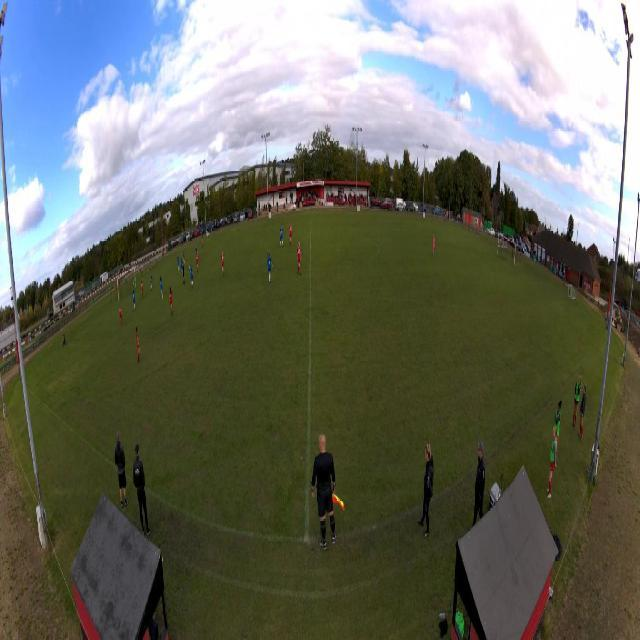ball: (189, 265, 190, 269)
player: (267, 249, 274, 285), (135, 325, 141, 363), (296, 241, 302, 278), (288, 221, 293, 250), (220, 250, 225, 279), (169, 286, 173, 318), (280, 223, 284, 249), (190, 263, 194, 289), (159, 275, 163, 301), (182, 262, 186, 287), (119, 304, 123, 328), (132, 289, 136, 311), (140, 280, 144, 300), (177, 253, 181, 272), (432, 234, 435, 258), (196, 253, 199, 274), (150, 271, 153, 290), (201, 232, 204, 249), (180, 259, 183, 275), (133, 276, 136, 292), (195, 245, 198, 256), (183, 249, 185, 265), (197, 250, 199, 261)
